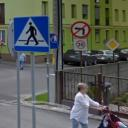NoVirarEsquerda: (71, 19, 91, 39)
speed_limit_30: (72, 39, 89, 52)
